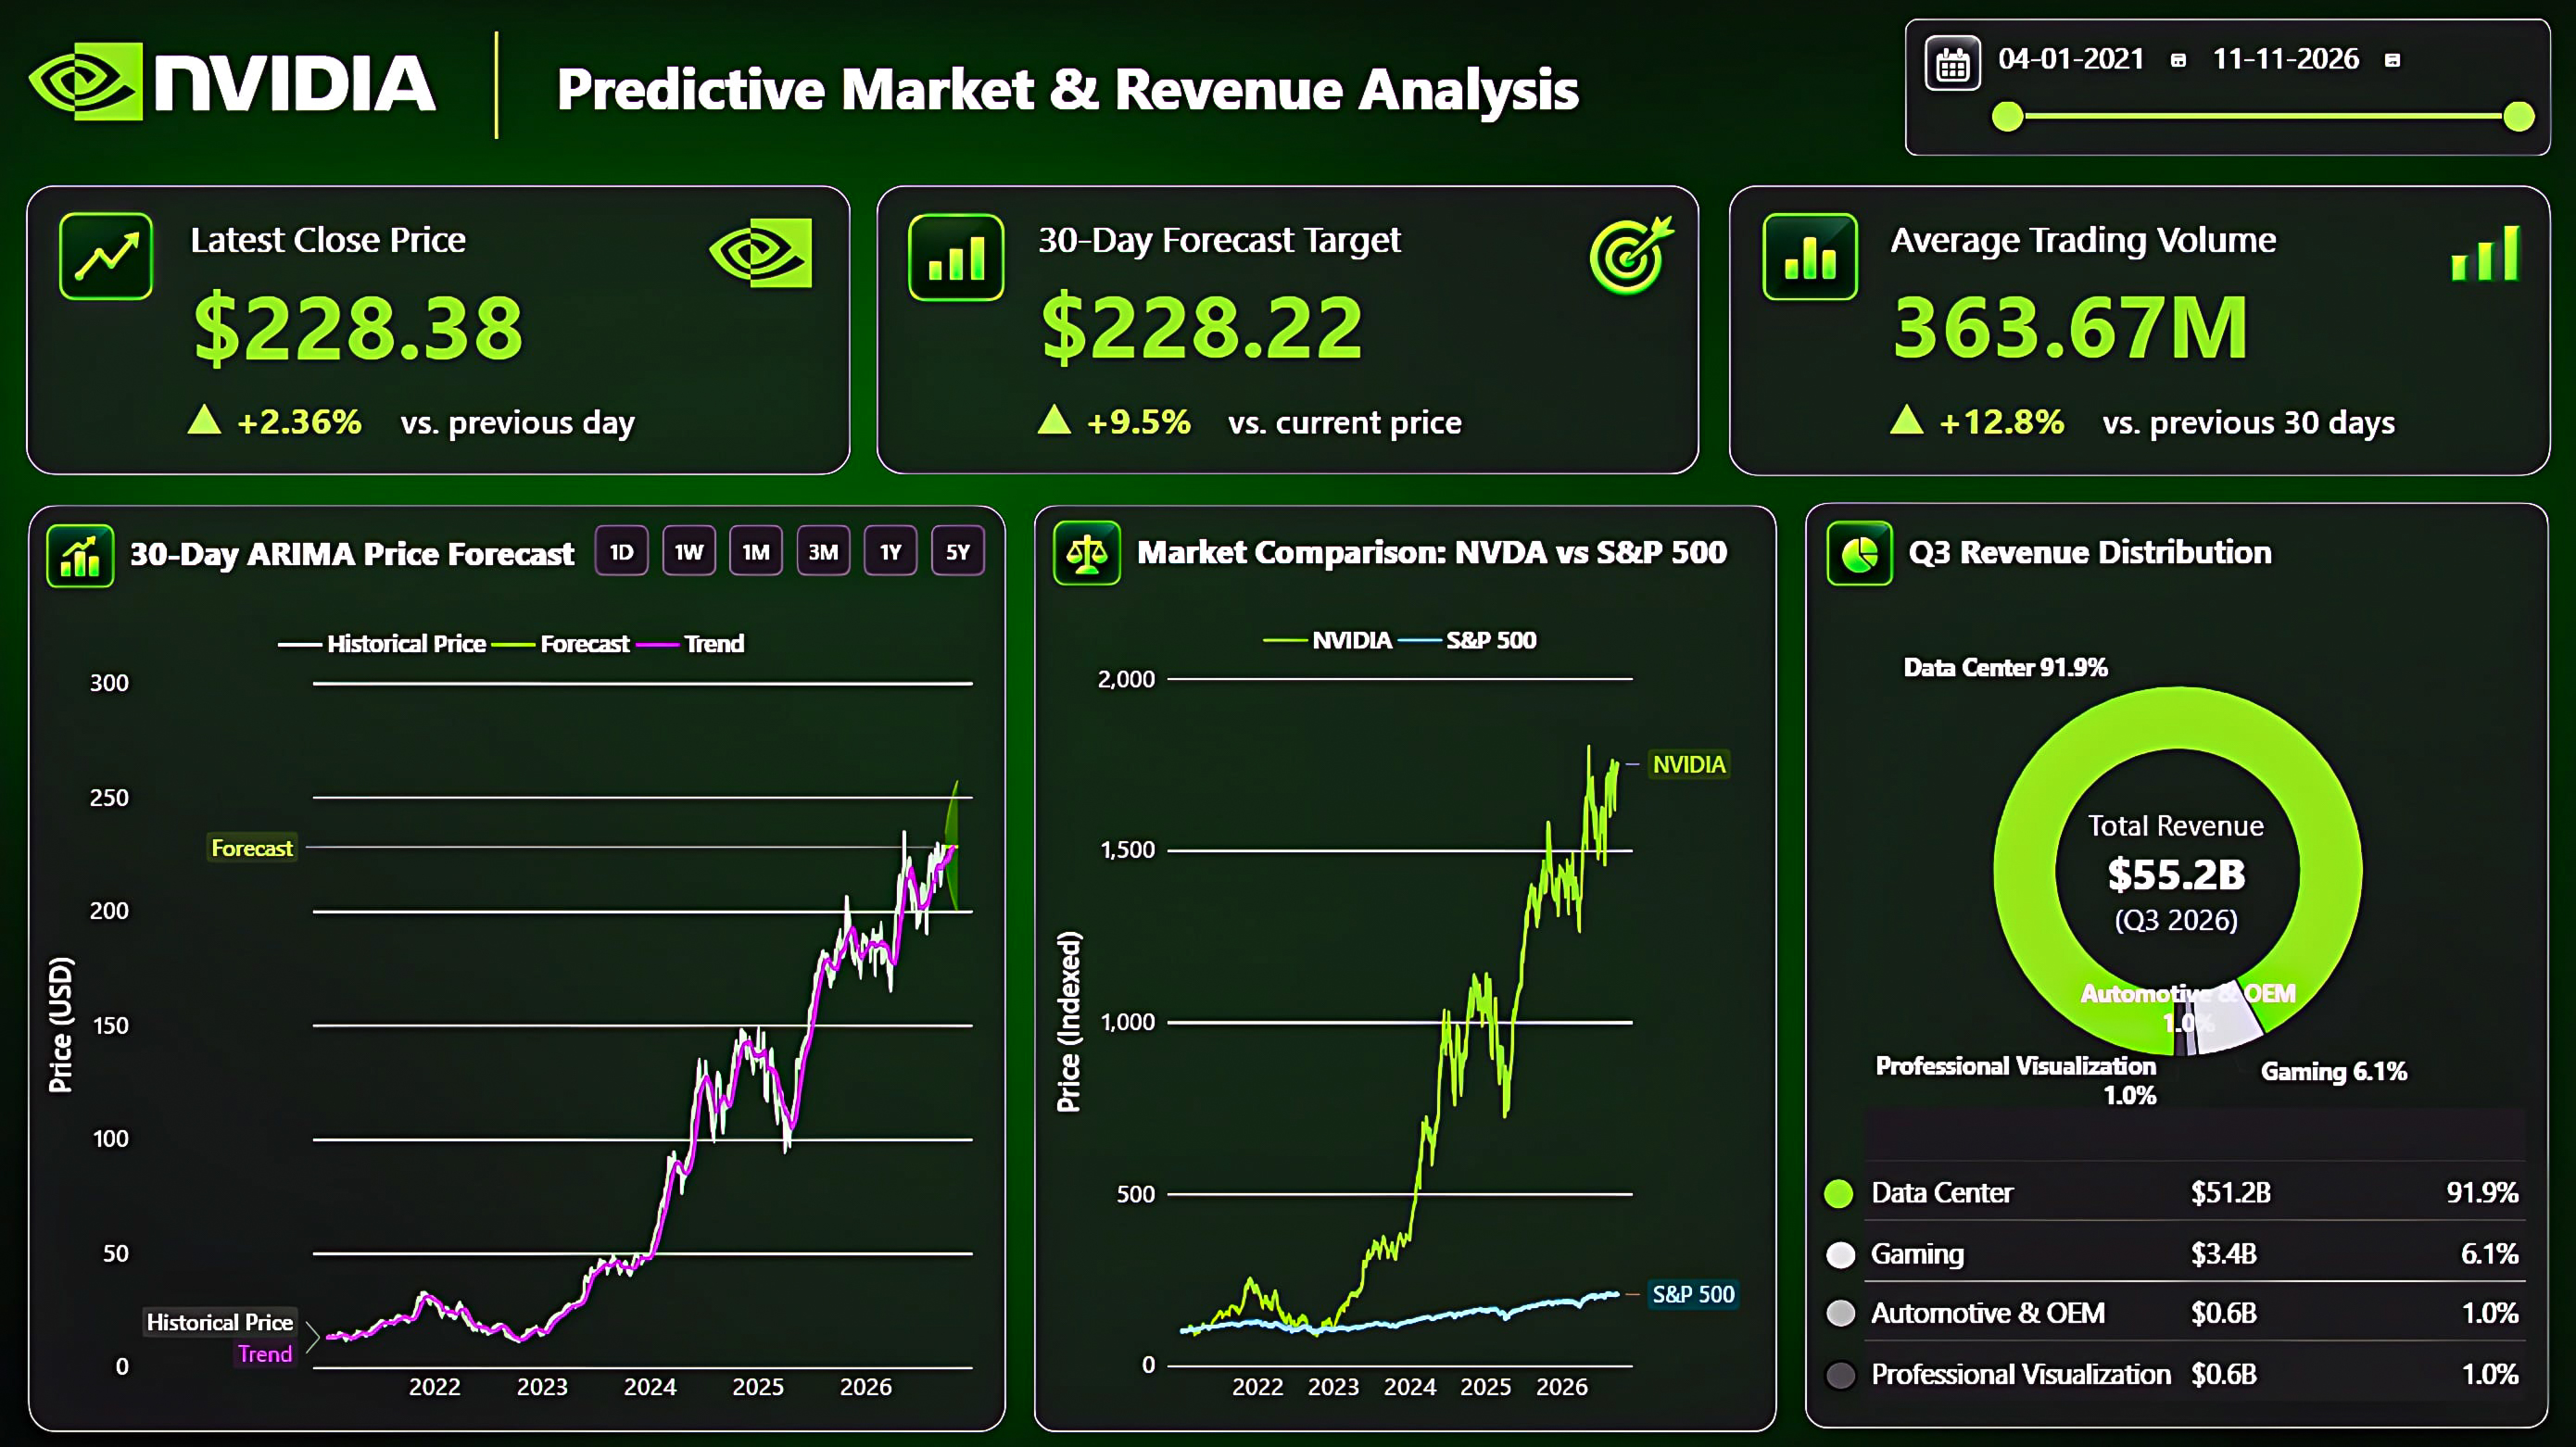

This screenshot's page, from the dashboard's own definition file:
{"tool":"powerbi","page":{"name":"Page 1","canvas":[1920,1080],"ordinal":0},"visuals":[{"type":"shape","box":[1417.5,14.4,480.9,102.7],"z":0,"group":"g4"},{"type":"shape","box":[21.2,137.8,613.7,215.6],"z":0,"group":"g1"},{"type":"shape","box":[653.5,137.8,612.8,215.4],"z":0,"group":"g2"},{"type":"textbox","box":[418.7,36.2,932.2,68.9],"z":1000},{"type":"shape","box":[1286.5,137.8,611.8,216.4],"z":1000,"group":"g3"},{"type":"cardVisual","fields":{"Data":["Sum(financial_data cleaned_stock_data.close)"]},"box":[126.8,144.2,321.8,165.2],"z":1000,"group":"g1"},{"type":"cardVisual","fields":{"Data":["Sum(financial_data nvidia_arima_forecast.predicted_close)"]},"box":[759,144.2,321.2,165],"z":1000,"group":"g2"},{"type":"image","box":[505.7,139.9,128,98.8],"z":2000,"group":"g1"},{"type":"image","box":[1169.3,154.3,88.6,72],"z":2000,"group":"g2"},{"type":"shape","box":[771,375,552.8,690],"z":2000},{"type":"image","box":[0,0,350.5,129.3],"z":3000},{"type":"textbox","box":[139.9,287.8,381.3,66.3],"z":3000,"group":"g1"},{"type":"textbox","box":[772.9,287.8,380.2,66.2],"z":3000,"group":"g2"},{"type":"image","box":[631.4,137.8,164.9,108.9],"z":4000,"group":"g2"},{"type":"image","box":[0,139.9,161,105],"z":4000,"group":"g1"},{"type":"cardVisual","fields":{"Data":["Avg(financial_data cleaned_stock_data.volume)"]},"box":[1391.8,144.2,320.7,165.8],"z":4000,"group":"g3"},{"type":"shape","box":[22.7,375,727.5,690],"z":4000},{"type":"shape","box":[206.8,24.1,327.4,79.3],"z":5000},{"type":"image","box":[1809.1,144,80.2,82.6],"z":5000,"group":"g3"},{"type":"shape","box":[1344.7,374.8,553.3,689],"z":5000,"group":"g5"},{"type":"lineChart","title":"30-Day ARIMA Price Forecast","fields":{"Category":["Master Date.Date"],"Y":["Sum(financial_data cleaned_stock_data.close)","Sum(financial_data nvidia_arima_forecast.predicted_close)","financial_data cleaned_stock_data.30-Day Moving Average"]},"box":[20.9,448.3,729.1,617.4],"z":6000},{"type":"group","id":"g1","title":"Group 1","box":[0,137.8,634.9,216.3],"z":7000},{"type":"textbox","box":[1405.4,288.1,423.6,66.3],"z":7000,"group":"g3"},{"type":"image","box":[710,371,201,81],"z":8000},{"type":"image","box":[1268,137.9,160.5,107.4],"z":9000,"group":"g3"},{"type":"textbox","box":[97.7,395,347.1,50.6],"z":9000},{"type":"lineChart","title":"30-Day ARIMA Price Forecast","fields":{"Category":["Master Date.Date"],"Y":["financial_data cleaned_stock_data.NVDA Indexed","financial_data sp500_index_data.S&P 500 Indexed"]},"box":[770.9,444.9,551.1,619.6],"z":10000},{"type":"group","id":"g2","title":"Group 1","box":[631.4,137.8,634.9,216.3],"z":11000},{"type":"textbox","box":[840,393,472.7,54.1],"z":12000},{"type":"image","box":[12.2,377.5,98.4,70.1],"z":13000},{"type":"advancedSlicerVisual","fields":{"Values":["Timeframe Options.Period"]},"box":[443,390,295,40],"z":14000},{"type":"slicer","fields":{"Values":["Master Date.Date"]},"box":[1471.4,14.4,419.9,102.7],"z":16000,"group":"g4"},{"type":"image","box":[1323.8,372.8,123.2,76.7],"z":16000,"group":"g5"},{"type":"group","id":"g3","title":"Group 3","box":[1268,137.8,630.3,216.6],"z":17000},{"type":"donutChart","fields":{"Category":["financial_data nvidia_revenue_distribution.segment"],"Y":["Sum(financial_data nvidia_revenue_distribution.revenue_billions)"]},"box":[1343.9,442.8,554.8,411.8],"z":17000,"group":"g5"},{"type":"image","box":[1385.1,14.4,137.9,64.8],"z":18000,"group":"g4"},{"type":"textbox","box":[1422,392.7,461.5,48.6],"z":18000,"group":"g5"},{"type":"group","id":"g4","title":"Group 4","box":[1385.1,14.4,513.3,102.7],"z":18001},{"type":"textbox","box":[1514,598.8,214.9,119.8],"z":20000,"group":"g5"},{"type":"tableEx","fields":{"Values":["financial_data nvidia_revenue_distribution.segment","financial_data nvidia_revenue_distribution.Formatted Revenue","Sum(financial_data nvidia_revenue_distribution.revenue_billions)"]},"box":[1371.5,809.8,525.5,251.6],"z":21000,"group":"g5"},{"type":"shape","box":[1356,875.3,25.8,25.8],"z":22000,"group":"g5"},{"type":"shape","box":[1357.7,921.8,25.8,24.1],"z":23000,"group":"g5"},{"type":"shape","box":[1357.7,964.9,25.8,24.1],"z":24000,"group":"g5"},{"type":"shape","box":[1357.7,1011.4,25.8,24.1],"z":25000,"group":"g5"},{"type":"group","id":"g5","title":"Group 2","box":[1323.8,372.8,575,691],"z":25001}]}

Visuals, with their boxes in screenshot pixels (x1, y1, x2, y2), scaled from the page's 1920x1080 canvas onto the 2576x1447 screenshot:
shape: (x1=1901, y1=19, x2=2547, y2=157)
shape: (x1=29, y1=184, x2=852, y2=473)
shape: (x1=877, y1=184, x2=1698, y2=473)
textbox: (x1=562, y1=48, x2=1812, y2=141)
shape: (x1=1726, y1=184, x2=2547, y2=474)
cardVisual - Sum(financial_data cleaned_stock_data.close): (x1=170, y1=194, x2=602, y2=414)
cardVisual - Sum(financial_data nvidia_arima_forecast.predicted_close): (x1=1018, y1=194, x2=1449, y2=414)
image: (x1=678, y1=187, x2=851, y2=320)
image: (x1=1569, y1=207, x2=1687, y2=303)
shape: (x1=1034, y1=502, x2=1776, y2=1427)
image: (x1=0, y1=0, x2=470, y2=173)
textbox: (x1=188, y1=385, x2=700, y2=474)
textbox: (x1=1037, y1=385, x2=1547, y2=474)
image: (x1=847, y1=184, x2=1068, y2=331)
image: (x1=0, y1=187, x2=216, y2=328)
cardVisual - Avg(financial_data cleaned_stock_data.volume): (x1=1867, y1=194, x2=2298, y2=415)
shape: (x1=31, y1=502, x2=1006, y2=1427)
shape: (x1=277, y1=32, x2=716, y2=139)
image: (x1=2427, y1=193, x2=2535, y2=304)
shape: (x1=1804, y1=502, x2=2546, y2=1426)
"30-Day ARIMA Price Forecast" lineChart: (x1=28, y1=600, x2=1006, y2=1428)
"Group 1" group: (x1=0, y1=184, x2=852, y2=474)
textbox: (x1=1886, y1=386, x2=2454, y2=475)
image: (x1=953, y1=497, x2=1222, y2=606)
image: (x1=1701, y1=184, x2=1916, y2=329)
textbox: (x1=131, y1=529, x2=597, y2=597)
"30-Day ARIMA Price Forecast" lineChart: (x1=1034, y1=596, x2=1774, y2=1427)
"Group 1" group: (x1=847, y1=184, x2=1698, y2=474)
textbox: (x1=1127, y1=526, x2=1762, y2=599)
image: (x1=17, y1=506, x2=148, y2=599)
advancedSlicerVisual - Timeframe Options.Period: (x1=594, y1=522, x2=991, y2=576)
slicer - Master Date.Date: (x1=1974, y1=19, x2=2537, y2=157)
image: (x1=1776, y1=499, x2=1941, y2=602)
"Group 3" group: (x1=1701, y1=184, x2=2547, y2=475)
donutChart - financial_data nvidia_revenue_distribution.segment x Sum(financial_data nvidia_revenue_distribution.revenue_billions): (x1=1803, y1=593, x2=2547, y2=1145)
image: (x1=1859, y1=19, x2=2043, y2=107)
textbox: (x1=1908, y1=526, x2=2527, y2=591)
"Group 4" group: (x1=1859, y1=19, x2=2547, y2=157)
textbox: (x1=2031, y1=802, x2=2319, y2=963)
tableEx - financial_data nvidia_revenue_distribution.segment x financial_data nvidia_revenue_distribution.Formatted Revenue: (x1=1840, y1=1085, x2=2545, y2=1422)
shape: (x1=1819, y1=1173, x2=1854, y2=1207)
shape: (x1=1822, y1=1235, x2=1856, y2=1267)
shape: (x1=1822, y1=1293, x2=1856, y2=1325)
shape: (x1=1822, y1=1355, x2=1856, y2=1388)
"Group 2" group: (x1=1776, y1=499, x2=2547, y2=1426)
